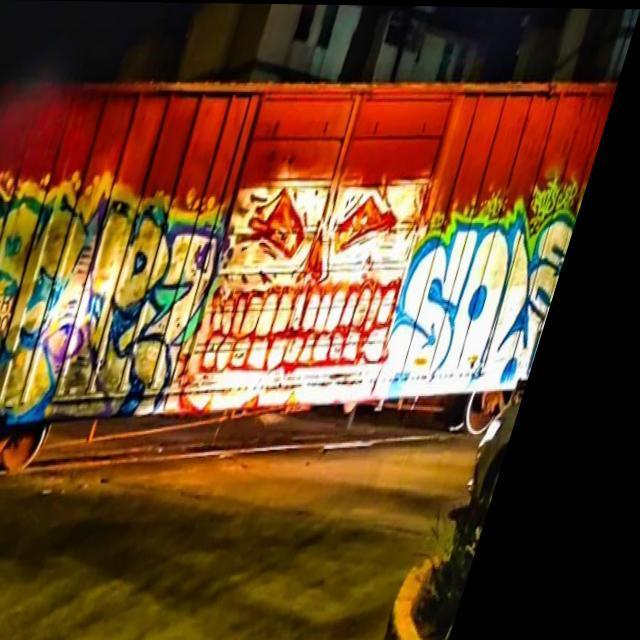-: (189, 167, 454, 413), (0, 166, 255, 414), (396, 197, 594, 397)
